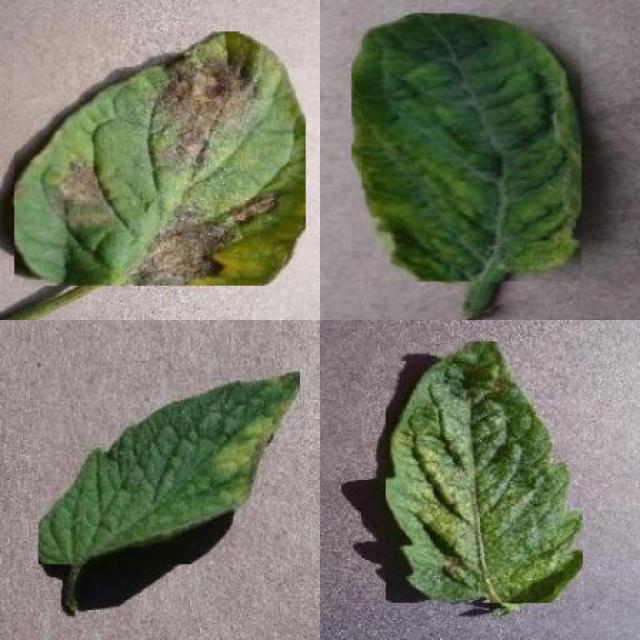Late Blight: (14, 31, 306, 286)
Leaf Mold: (39, 369, 300, 564)
Spider Mites: (386, 341, 583, 603)
Yellow Leaf Curl Virus: (352, 14, 582, 282)
